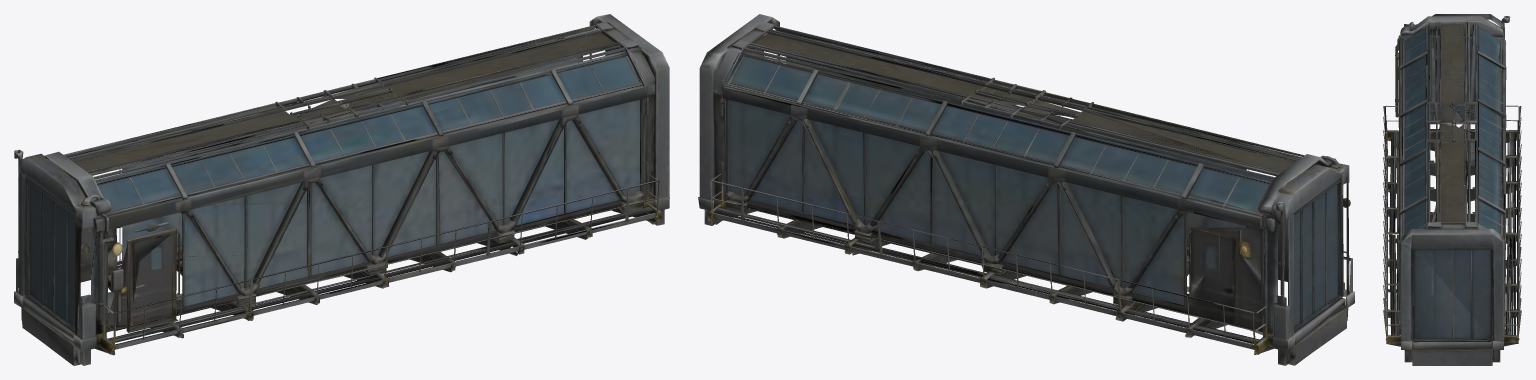
The model's file is skybridge.glb.
The picture shows the model from 3 angles, left to right: view 1: azimuth 30°, elevation 25°; view 2: azimuth 150°, elevation 25°; view 3: azimuth 270°, elevation 25°; orthographic projection. The views are drawn at different scales.
Parts seen in each view (by area): view 1: skybridge; view 2: skybridge; view 3: skybridge.
Boxes of the visible parts, x1,y1,x2,y2 form: skybridge: (14,14,669,365); skybridge: (698,14,1354,365); skybridge: (1383,14,1521,365).
Size of the model in its own units: 14 by 3.95 by 3.69.
Materials: 1 (1 with a texture image).
